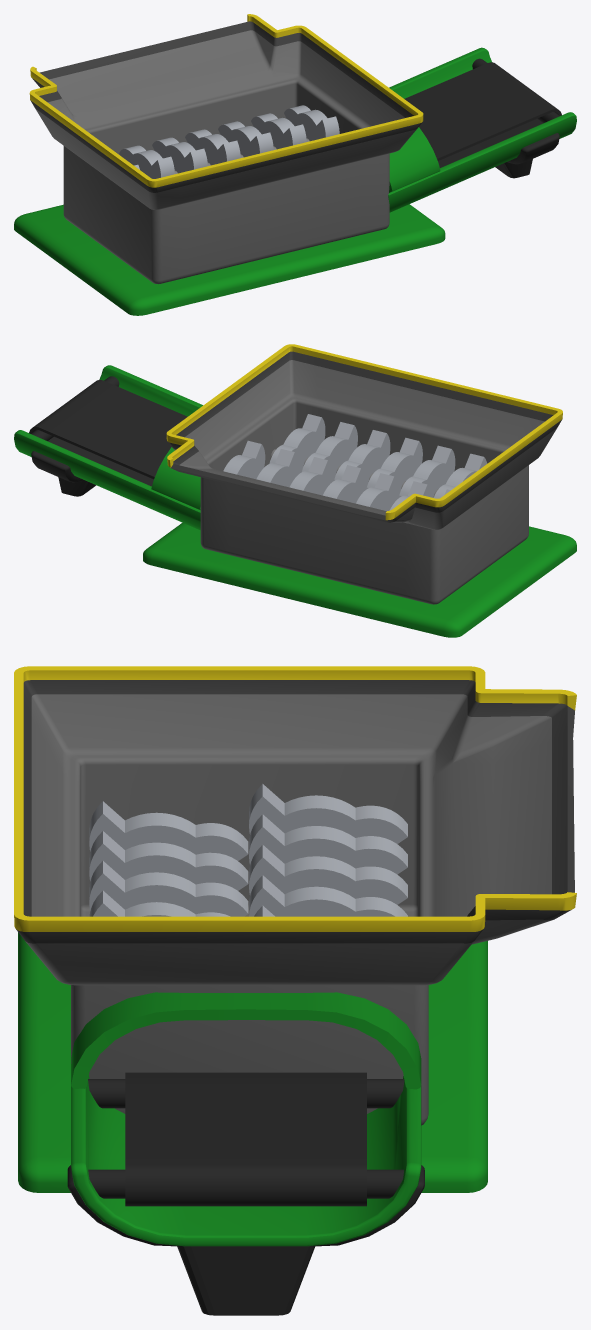
The model's file is TasMakina.fbx.
3 views of the same model, one above another, from view 1: azimuth 30°, elevation 25°; view 2: azimuth 150°, elevation 25°; view 3: azimuth 270°, elevation 25° (orthographic). The views are drawn at different scales.
Visible parts, largest first — view 1: tasMakina, palet, kesiciUc; view 2: tasMakina, palet, kesiciUc2, kesiciUc; view 3: tasMakina, palet, kesiciUc, kesiciUc2.
Part boxes in pixels (x1,y1,x2,y2): tasMakina: [14, 14, 576, 315]; palet: [404, 62, 561, 167]; kesiciUc: [119, 105, 339, 178]; tasMakina: [14, 344, 576, 637]; palet: [29, 380, 187, 486]; kesiciUc2: [269, 414, 487, 499]; kesiciUc: [223, 440, 450, 510]; tasMakina: [14, 666, 576, 1315]; palet: [125, 1072, 366, 1206]; kesiciUc: [249, 784, 407, 916]; kesiciUc2: [89, 801, 248, 916].
Size of the model in its own units: 863 by 237 by 479.
